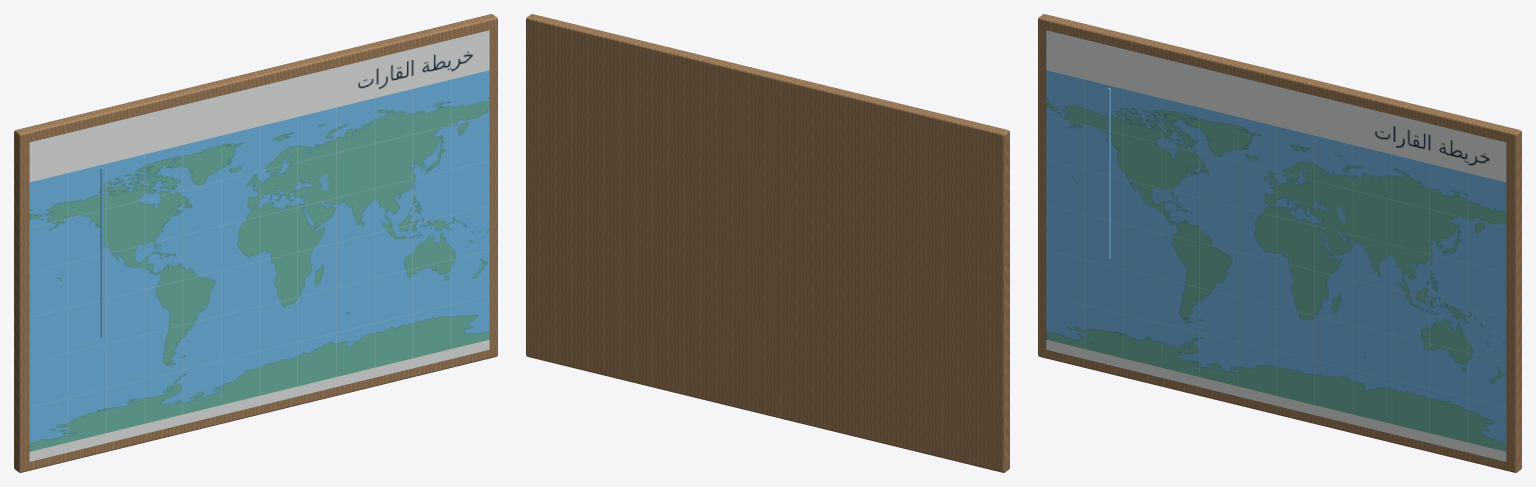
The model's file is classroom_map.glb.
3 renders of one model, left to right at view 1: azimuth 30°, elevation 25°; view 2: azimuth 150°, elevation 25°; view 3: azimuth 330°, elevation 25°, orthographic.
Visible parts, largest first — view 1: Classroom_Map_Print, Map_Frame, Map_Pointer; view 2: Map_Frame; view 3: Classroom_Map_Print, Map_Frame, Map_Pointer.
Boxes of the visible parts, <box> form: Classroom_Map_Print: <box>29,30,489,461</box>; Map_Frame: <box>14,14,497,472</box>; Map_Pointer: <box>100,167,103,337</box>; Map_Frame: <box>526,14,1009,472</box>; Classroom_Map_Print: <box>1046,30,1506,461</box>; Map_Frame: <box>1038,14,1521,472</box>; Map_Pointer: <box>1108,88,1110,258</box>.
Bounding box in the file's own units: 1.24 × 0.84 × 0.054.
Materials: 3 (2 with a texture image).
